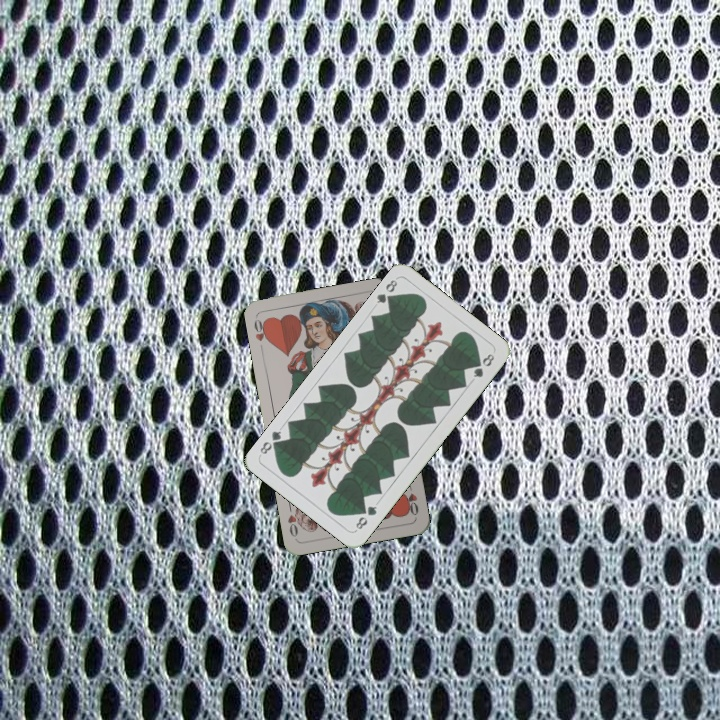G8: (372, 275, 400, 308), (351, 502, 380, 533)
HO: (401, 478, 421, 518), (250, 315, 272, 345)
